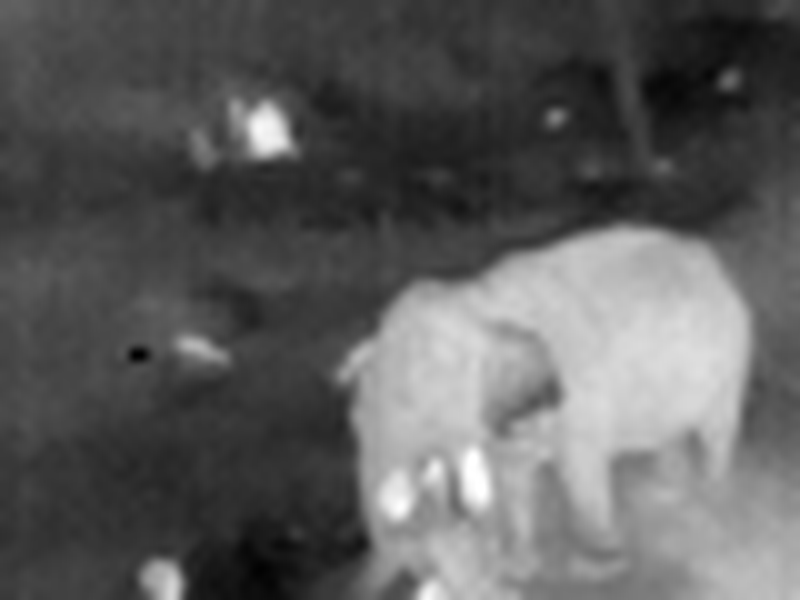elephant: (331, 231, 800, 600)
